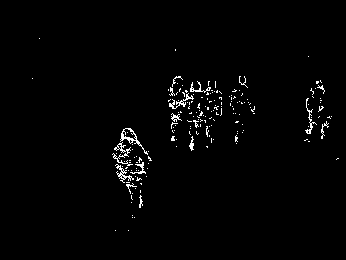person: (111, 127, 153, 207), (230, 71, 256, 147), (303, 78, 327, 139), (203, 76, 222, 150), (185, 80, 205, 150), (168, 74, 186, 147)
